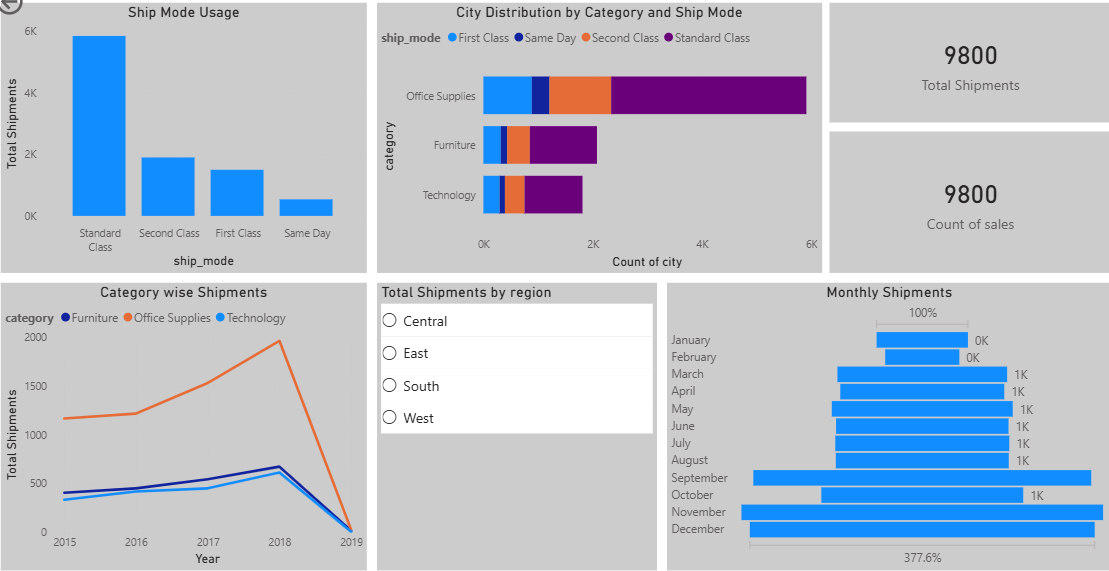

This screenshot's page, from the dashboard's own definition file:
{"tool":"powerbi","page":{"name":"Shipment Analysis","canvas":[1280,720],"ordinal":3},"visuals":[{"type":"clusteredColumnChart","title":"Ship Mode Usage","fields":{"Category":["retail_sales.ship_mode"],"Y":["retail_sales.Total Shipments"]},"box":[10,21.4,418.6,308.6],"z":0},{"type":"lineChart","title":"Category wise Shipments","fields":{"Category":["retail_sales.ship_date.Variation.Date Hierarchy.Year"],"Y":["retail_sales.Total Shipments"],"Series":["retail_sales.category"]},"box":[10,341.4,418.6,328.6],"z":1000},{"type":"barChart","title":"City Distribution by Category and Ship Mode","fields":{"Category":["retail_sales.category"],"Series":["retail_sales.ship_mode"],"Y":["CountNonNull(retail_sales.city)"]},"box":[440,21.4,508.6,308.6],"z":2000},{"type":"funnel","title":"Monthly Shipments","fields":{"Category":["retail_sales.order_date.Variation.Date Hierarchy.Month"],"Y":["retail_sales.Total Shipments"]},"box":[771.4,341.4,508.6,328.6],"z":3000},{"type":"card","fields":{"Values":["retail_sales.Total Shipments"]},"box":[957.1,21.4,322.9,137.1],"z":4000},{"type":"card","fields":{"Values":["CountNonNull(retail_sales.sales)"]},"box":[957.1,168.6,322.9,161.4],"z":5000},{"type":"listSlicer","fields":{"Values":["retail_sales.region"]},"box":[440,341.4,320,328.6],"z":6000},{"type":"actionButton","box":[0,0,100,40],"z":7000}]}

Visuals, with their boxes on the page's 1280x720 design canvas (x1, y1, x2, y2). These are canvas units, not pixel positions in the 1109x571 screenshot, which may show the page scaled, cropped or inside an application window:
"Ship Mode Usage" clusteredColumnChart: 10, 21, 429, 330
"Category wise Shipments" lineChart: 10, 341, 429, 670
"City Distribution by Category and Ship Mode" barChart: 440, 21, 949, 330
"Monthly Shipments" funnel: 771, 341, 1280, 670
card - retail_sales.Total Shipments: 957, 21, 1280, 158
card - CountNonNull(retail_sales.sales): 957, 169, 1280, 330
listSlicer - retail_sales.region: 440, 341, 760, 670
actionButton: 0, 0, 100, 40
